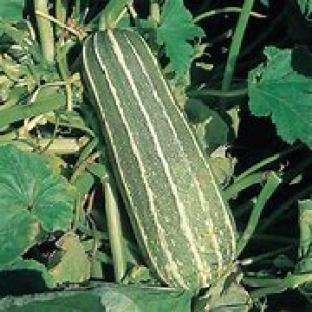Zucchini: (84, 30, 235, 289)
